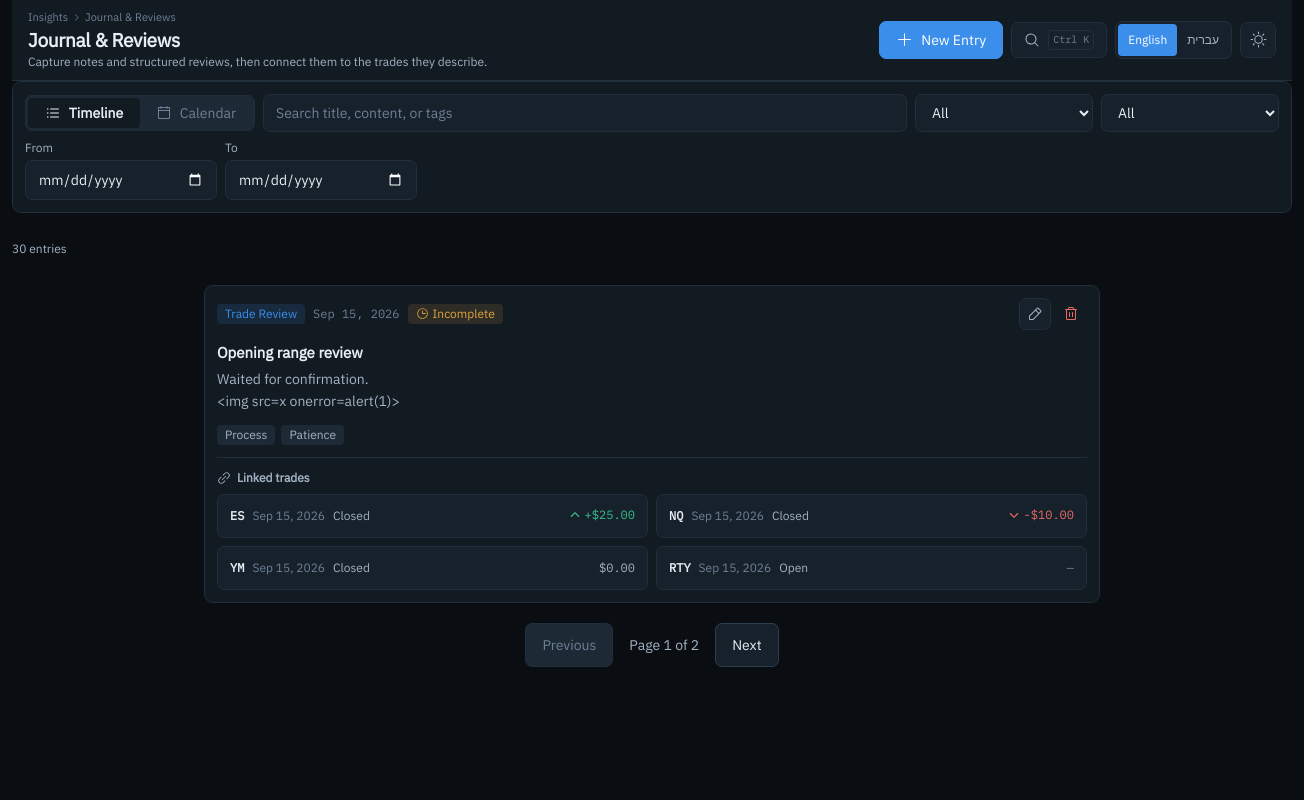
Journal timeline and filters › preserves filters in pagination and keeps stale content during refresh
Expected: the heading "Opening range review" is shown, 217,343 -> 363,362
Click the button "Next": coordinates (747, 645) 715,623 -> 779,667
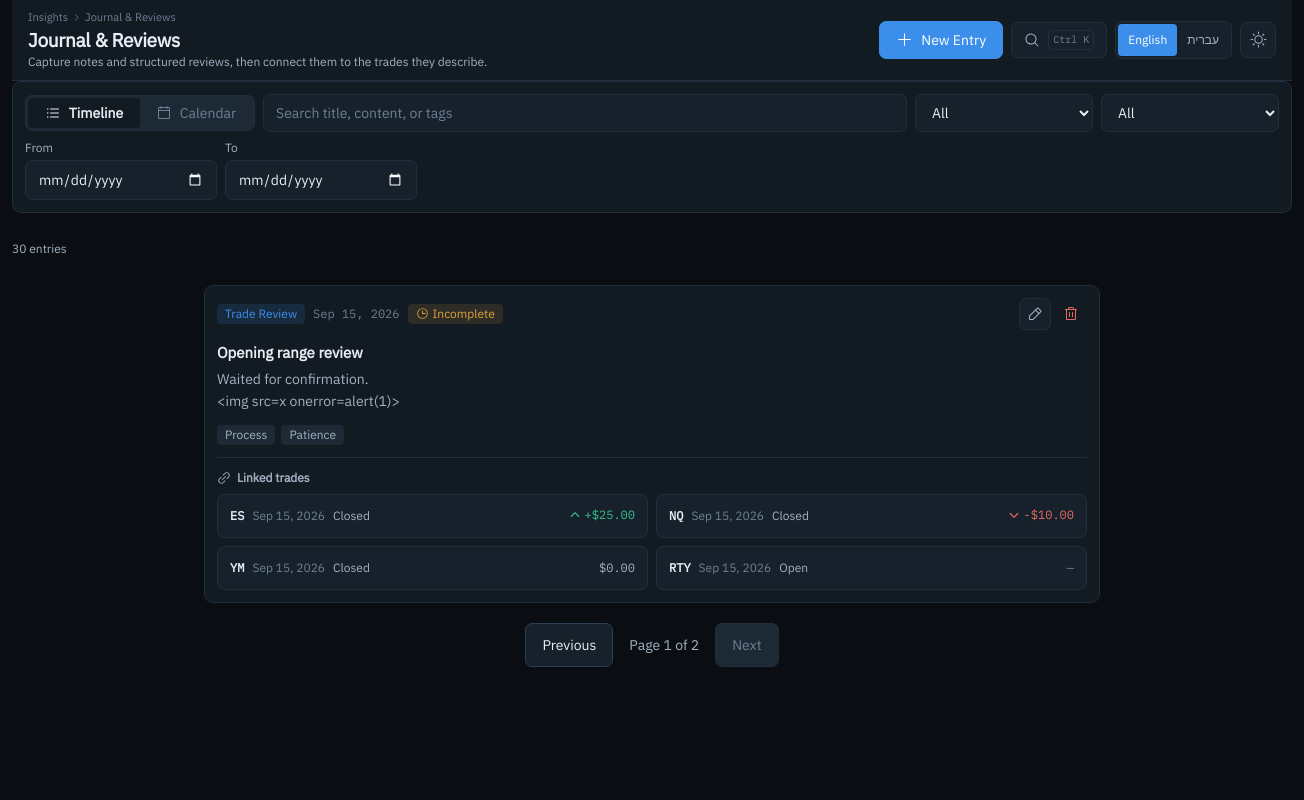
In the search field named "Search journal entries": coordinates (585, 113) 263,94 -> 907,132, type "wait"
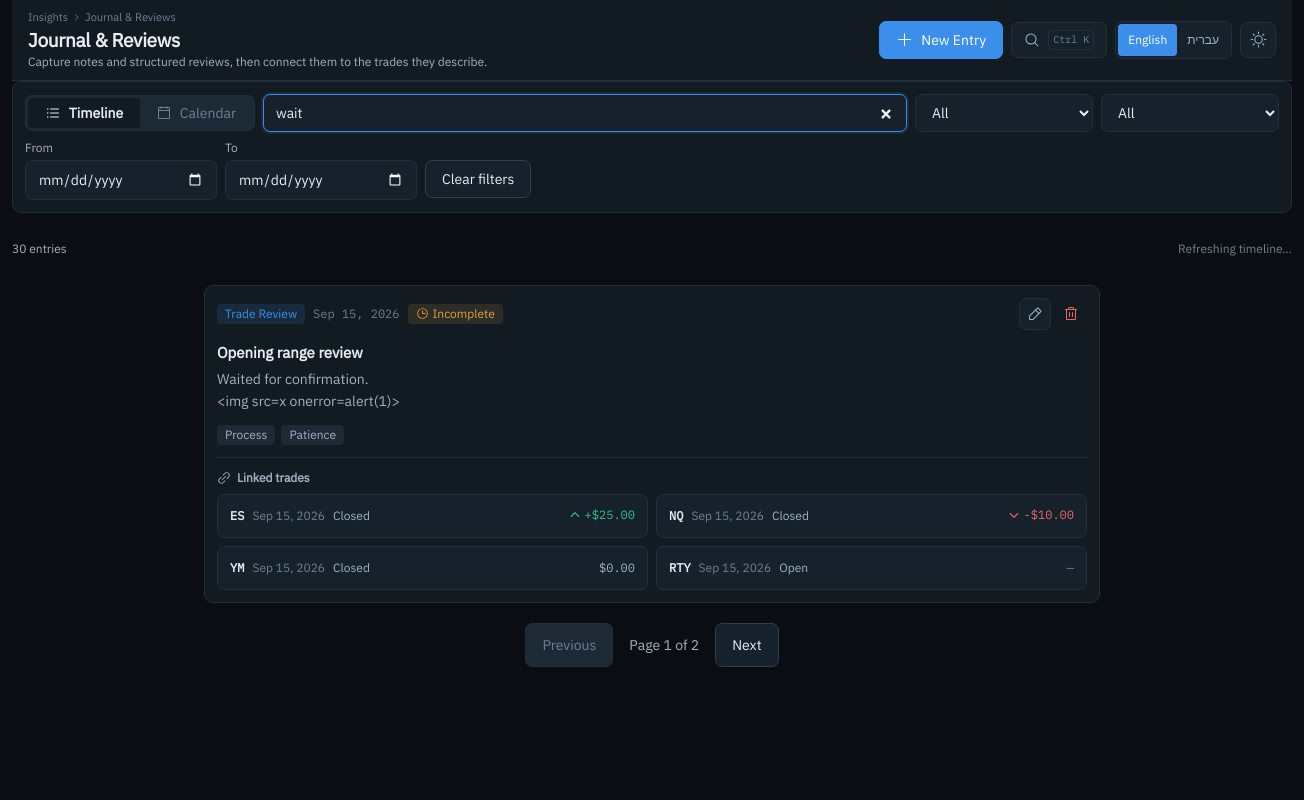
Expected: the heading "Opening range review" is shown, 217,343 -> 363,362
Result: the text "Refreshing timeline…" is shown at 1178,241 -> 1292,257
